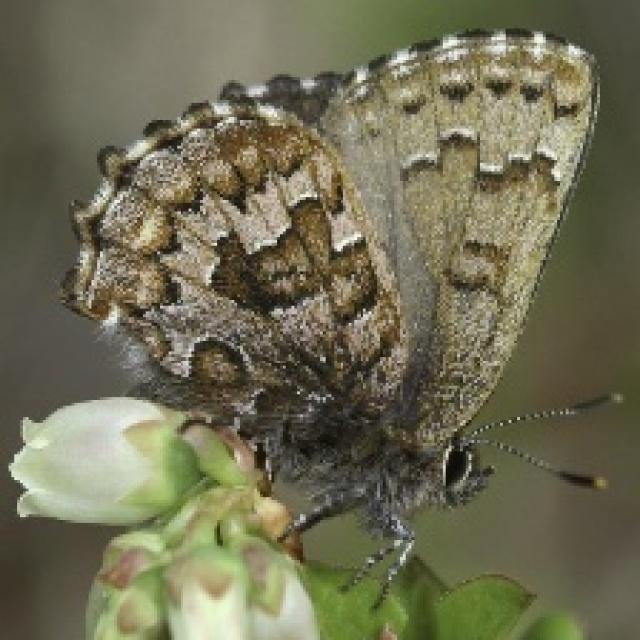butterfly: (54, 23, 623, 611)
